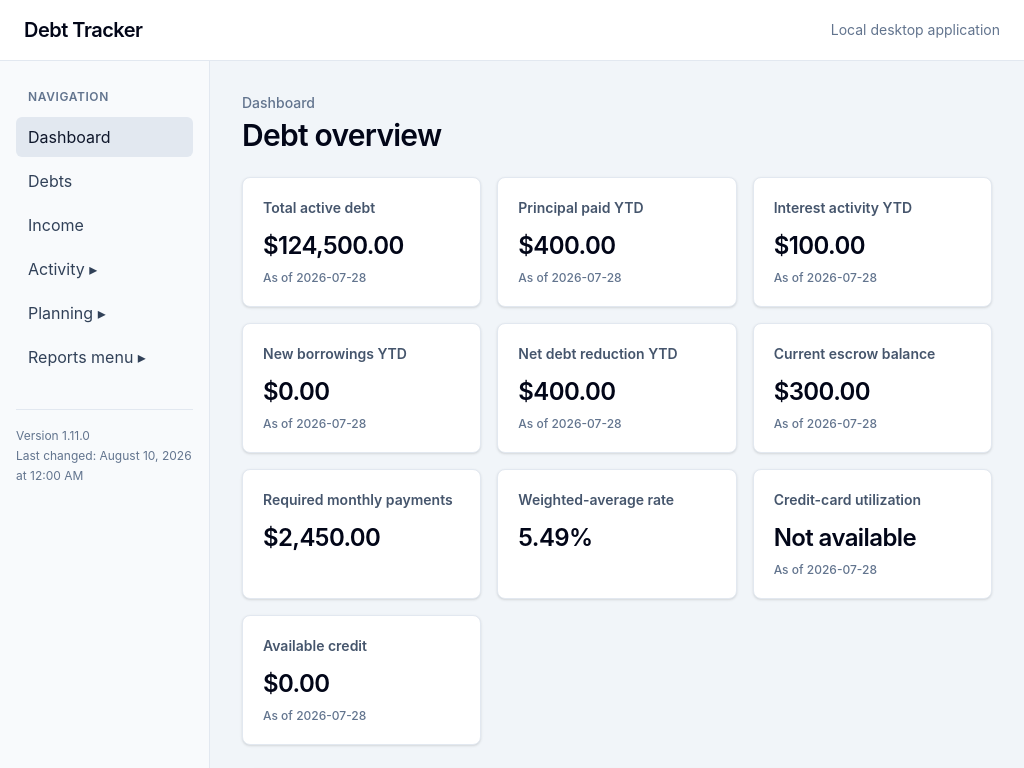
Test case: debt maintenance application › navigates from dashboard total active debt to debts
The image size is (1024, 768).
What coordinates should you click on to do the following:
click the button "Total active debt $124,500.00 As of 2026-07-28"
I would click on:
 (362, 242)
Its box is [242,177,481,307].
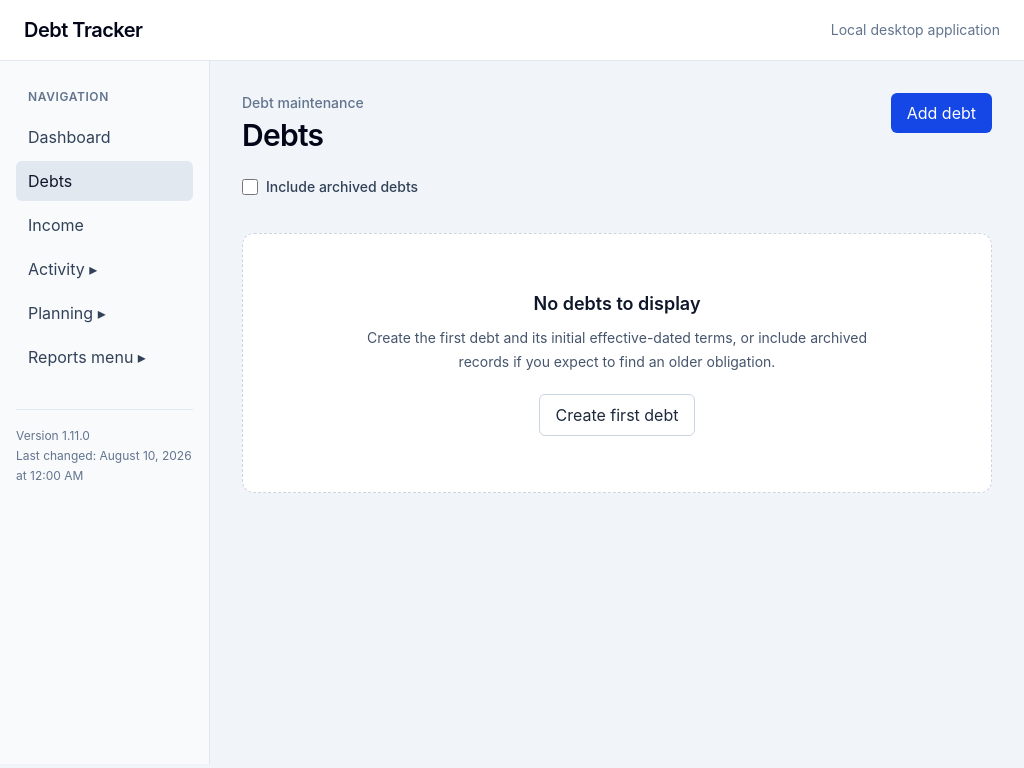
Check: the heading "No debts to display" is shown, box [534,293,700,314]
